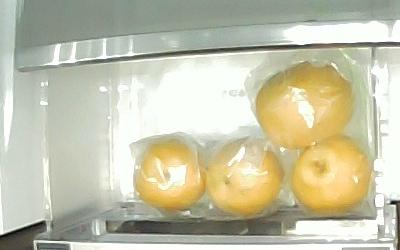pear_vinyl: (253, 59, 355, 150), (289, 131, 371, 214), (205, 135, 285, 216), (133, 137, 205, 211)
